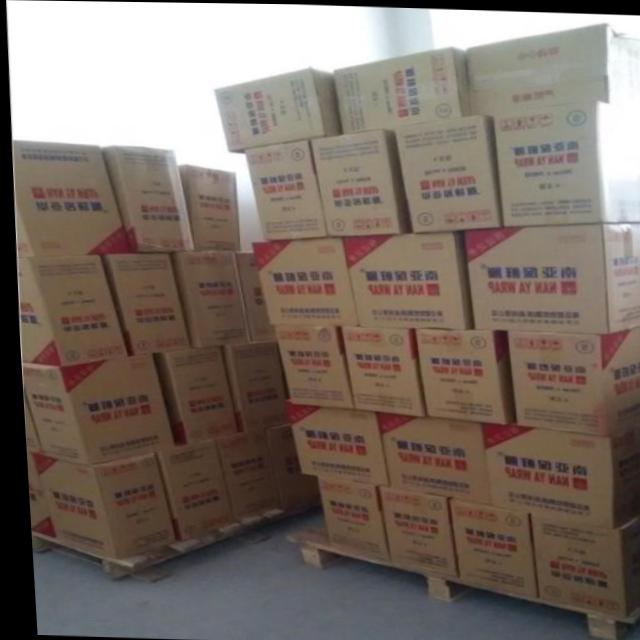box: (463, 223, 640, 333), (491, 99, 640, 226), (473, 416, 640, 526), (17, 353, 171, 465), (21, 445, 168, 558), (465, 21, 640, 115), (503, 322, 640, 433), (337, 227, 473, 330), (11, 140, 128, 257), (521, 505, 640, 615), (393, 113, 500, 234), (14, 254, 125, 366), (331, 46, 471, 133), (369, 410, 498, 503), (306, 126, 409, 235), (213, 67, 338, 153), (97, 146, 192, 252), (409, 327, 512, 422), (96, 250, 188, 355), (248, 234, 354, 323), (281, 399, 384, 486), (444, 495, 530, 595), (148, 344, 232, 445), (148, 437, 228, 541), (242, 139, 325, 239), (336, 322, 422, 416), (166, 250, 246, 347), (370, 483, 452, 576), (267, 323, 348, 408), (215, 339, 285, 431), (310, 474, 383, 560), (209, 427, 275, 522), (175, 164, 238, 250), (259, 422, 314, 505), (230, 250, 271, 340)
